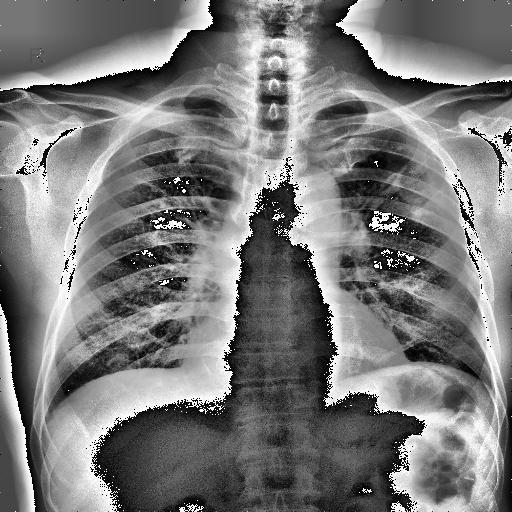0- Aortic enlargement: (270, 162, 342, 230)
11- Pleural thickening: (162, 94, 226, 104), (331, 99, 383, 110)
13- Pulmonary fibrosis: (122, 150, 219, 222), (374, 156, 442, 217), (399, 152, 435, 176)
3- Cardiomegaly: (176, 336, 412, 388)
6- Infiltration: (390, 145, 452, 217)
